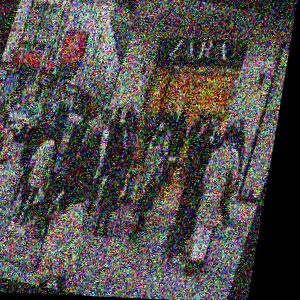zara: (115, 9, 295, 55)
